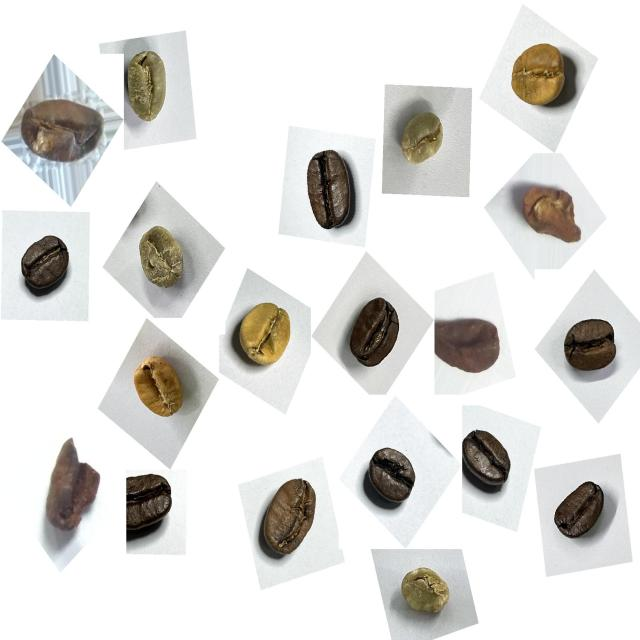bad: (18, 84, 108, 176), (35, 430, 108, 543), (432, 302, 509, 390), (513, 170, 590, 256)
dark: (290, 138, 367, 243), (338, 285, 412, 382), (355, 436, 426, 522), (454, 422, 524, 507), (544, 466, 612, 552), (115, 462, 181, 550), (11, 225, 81, 302)
green: (114, 40, 180, 133), (128, 216, 196, 303), (386, 99, 452, 182), (388, 556, 460, 632)
light: (501, 31, 584, 123), (227, 291, 305, 386), (121, 341, 190, 428)
medium: (252, 465, 329, 568), (554, 307, 626, 392)
